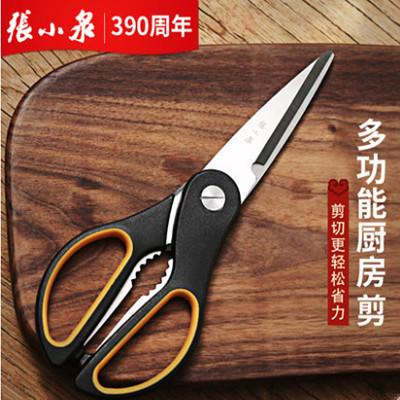scissor: (35, 48, 334, 398)
